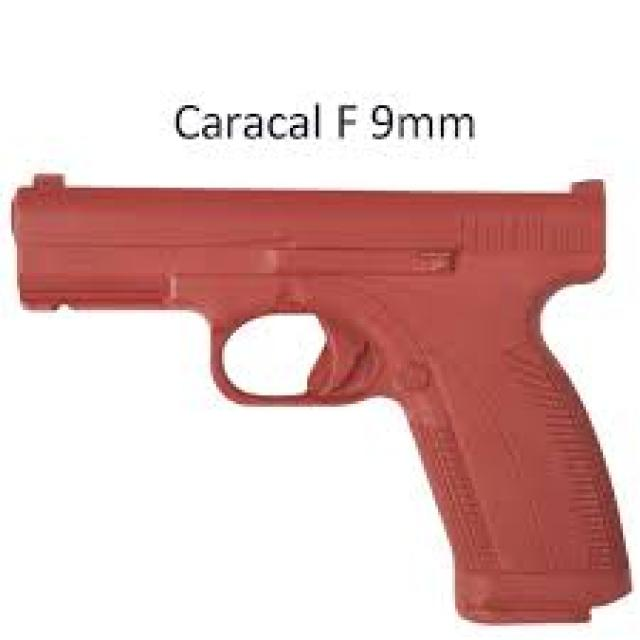Gun: (0, 146, 640, 640)
